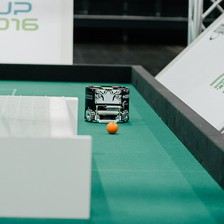ball: (106, 121, 119, 134)
robot: (85, 83, 131, 124)
